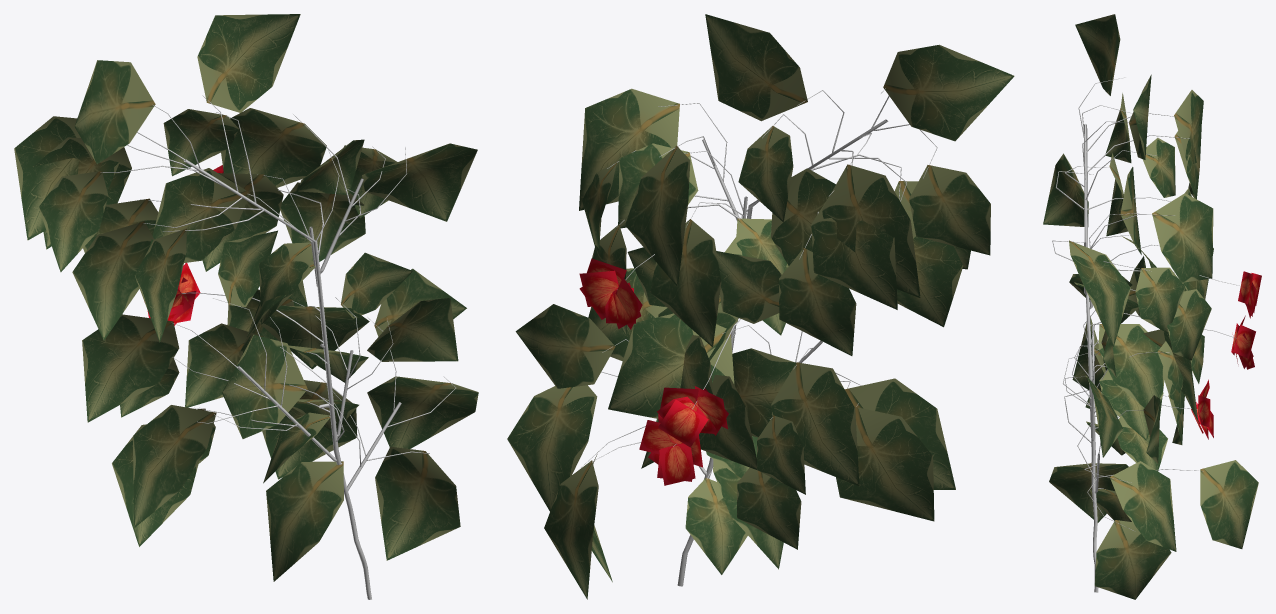
File: SM_Vine03.fbx
3 views of the same model, side by side, from view 1: azimuth 30°, elevation 25°; view 2: azimuth 150°, elevation 25°; view 3: azimuth 270°, elevation 25° (orthographic). The views are drawn at different scales.
Visible parts, largest first — view 1: SM_Vine03_LOD0; view 2: SM_Vine03_LOD0; view 3: SM_Vine03_LOD0.
Part boxes in pixels (x1=…): SM_Vine03_LOD0: x1=14, y1=14, x2=478, y2=599; SM_Vine03_LOD0: x1=507, y1=14, x2=1014, y2=599; SM_Vine03_LOD0: x1=1043, y1=14, x2=1261, y2=599.
Size of the model in its own units: 173 by 90.6 by 217.
